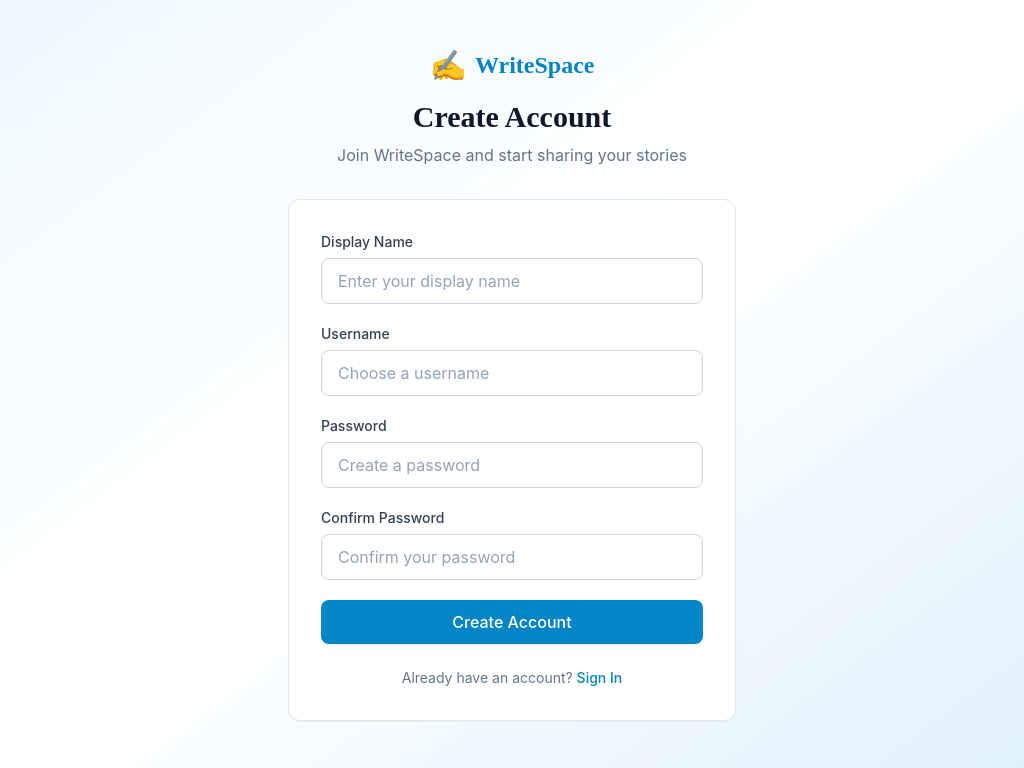
App › registration flow › register form shows error for duplicate username
The width and height of the screenshot is (1024, 768).
Type "Another User" into the field labelled "Display Name" at (512, 281), box [321,258,703,304]
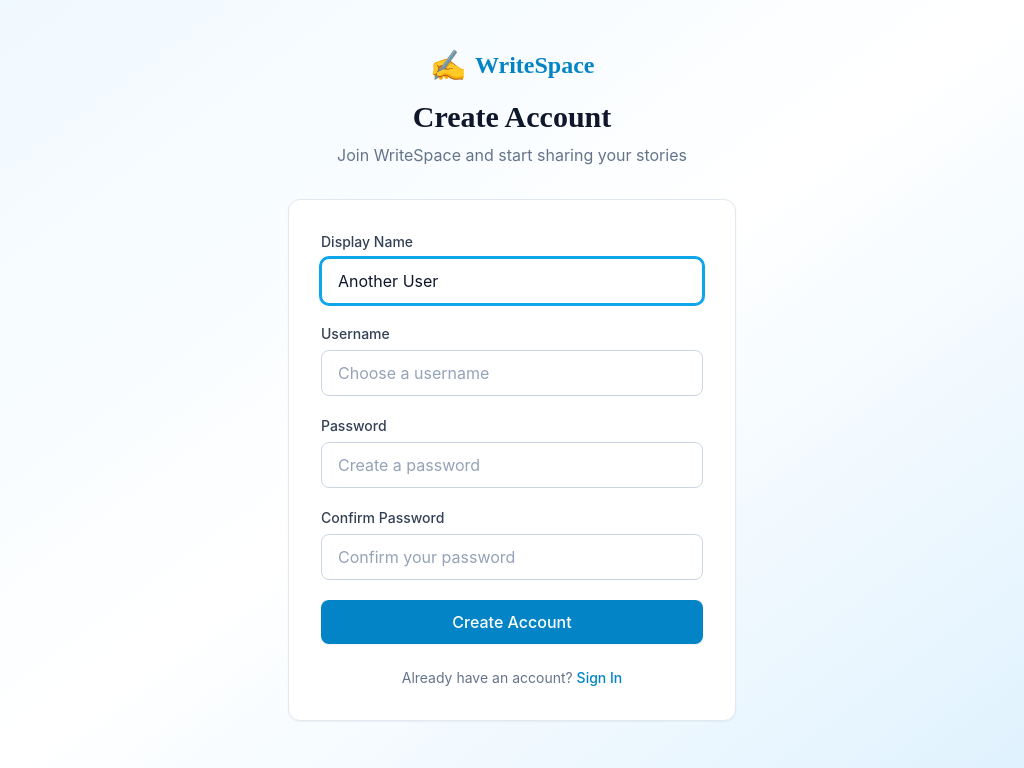
Type "existing" into the field labelled "Username" at (512, 373), box [321,350,703,396]
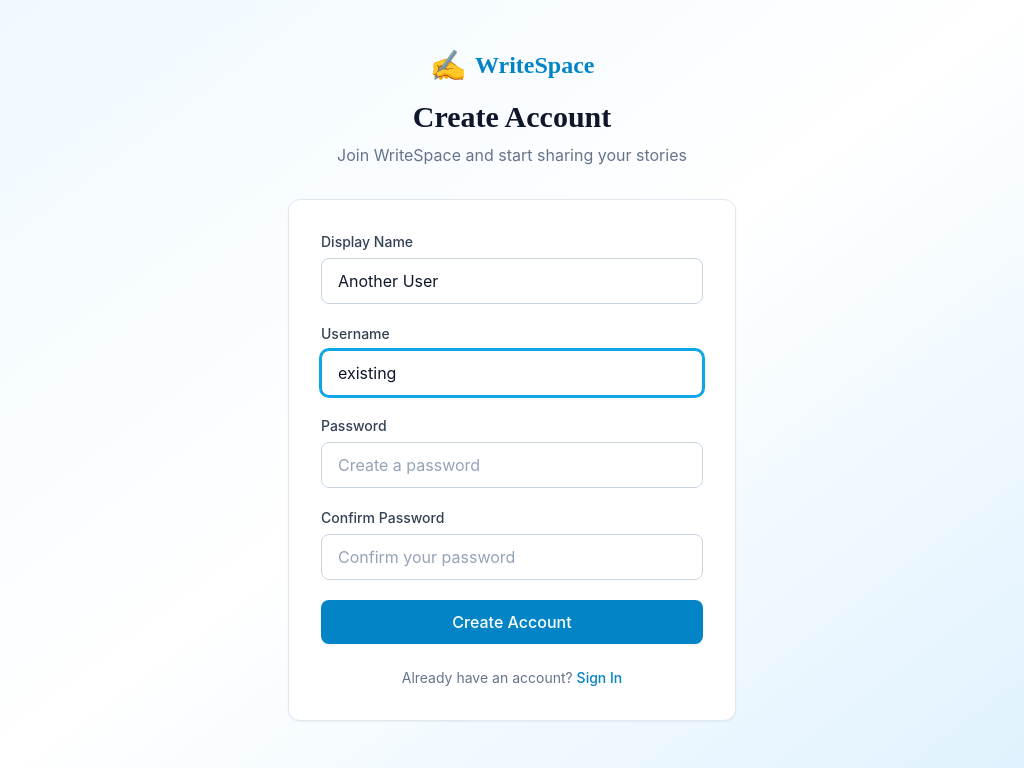
Type "password123" into the password field labelled "Password" at (512, 465), box [321,442,703,488]
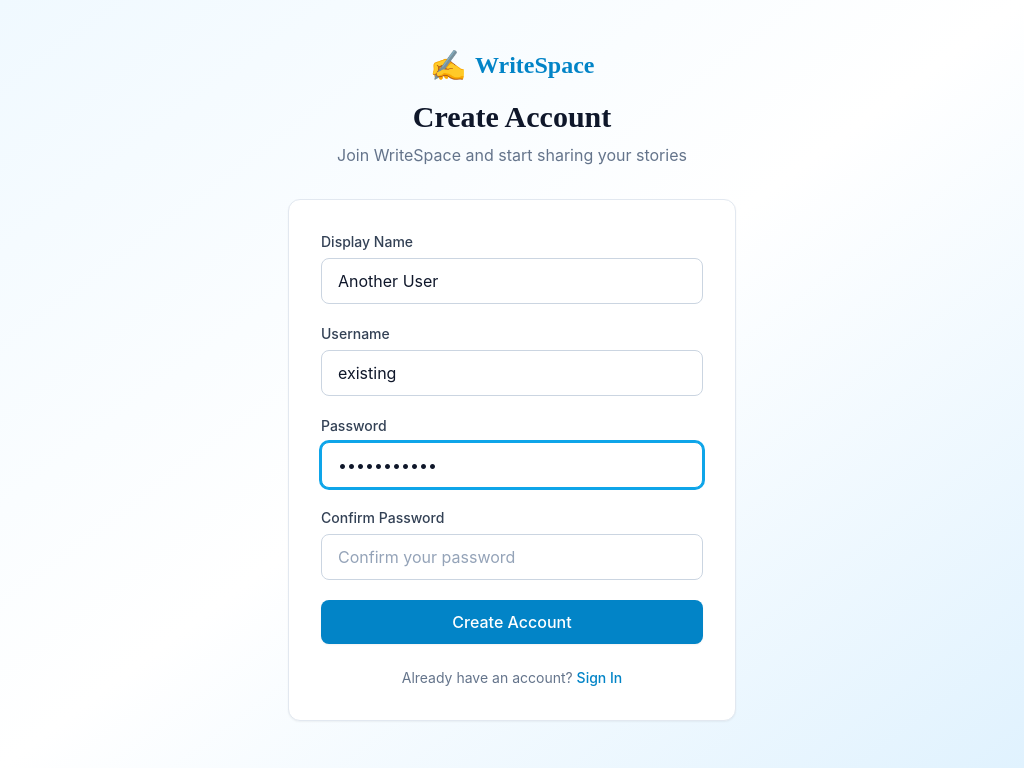
Type "password123" into the password field labelled "Confirm Password" at (512, 557), box [321,534,703,580]
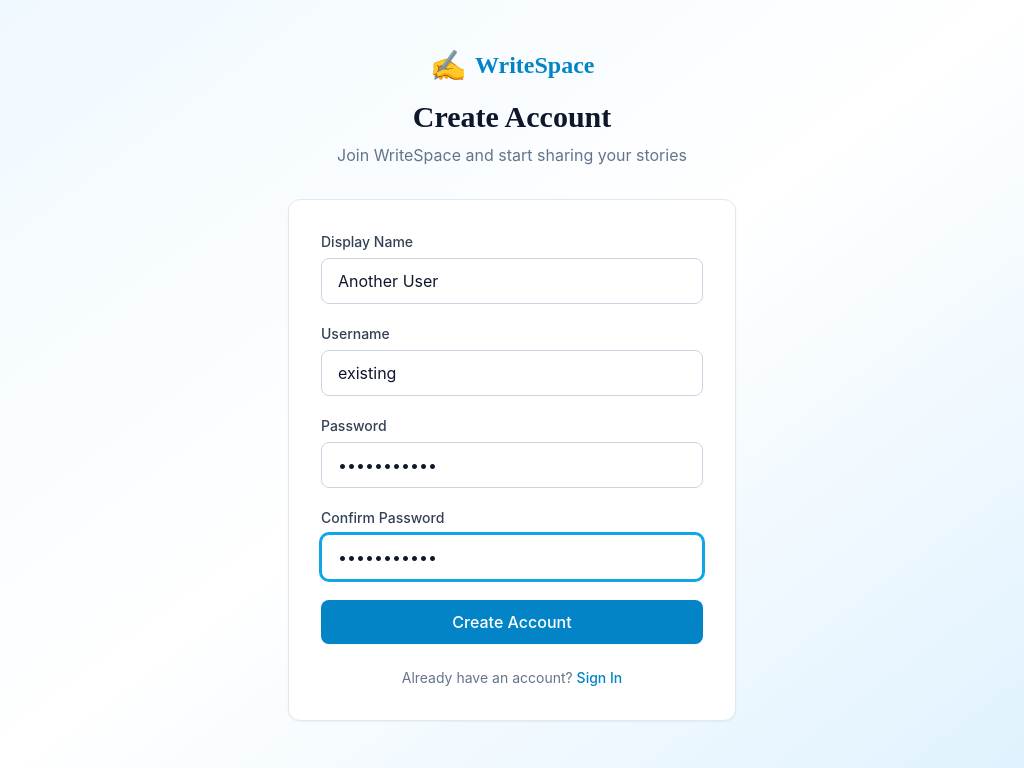
Click the button "Create Account" at (512, 622), box [321,600,703,644]
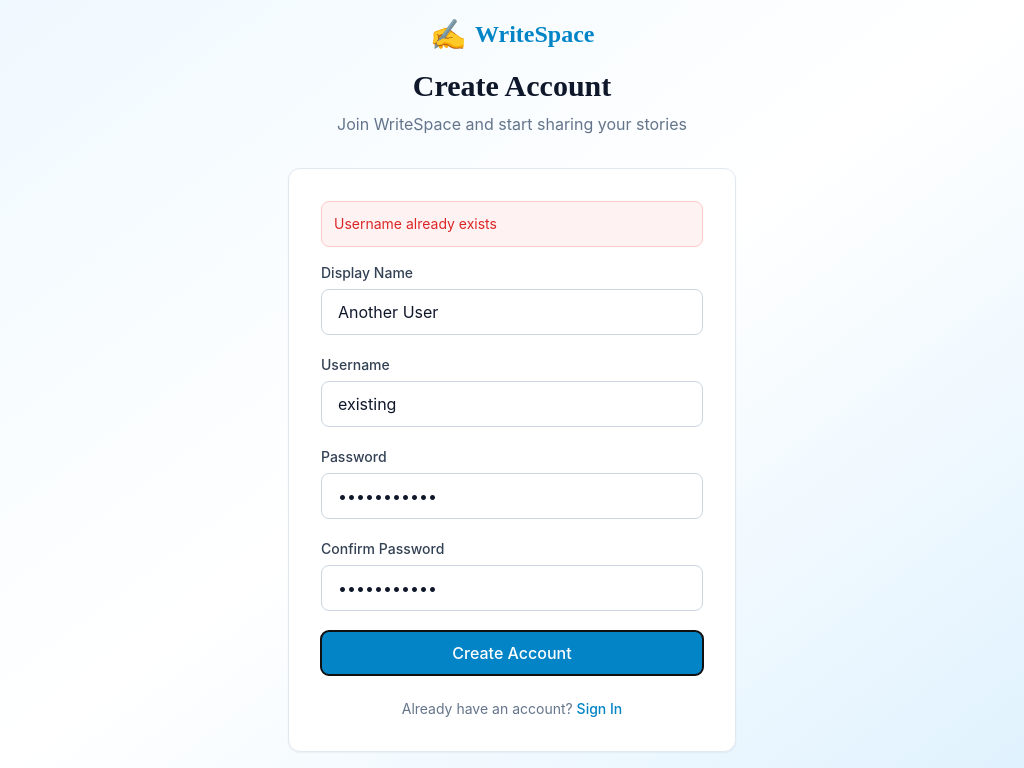
Check: the text "Username already exists" is shown, box [321,201,703,247]
